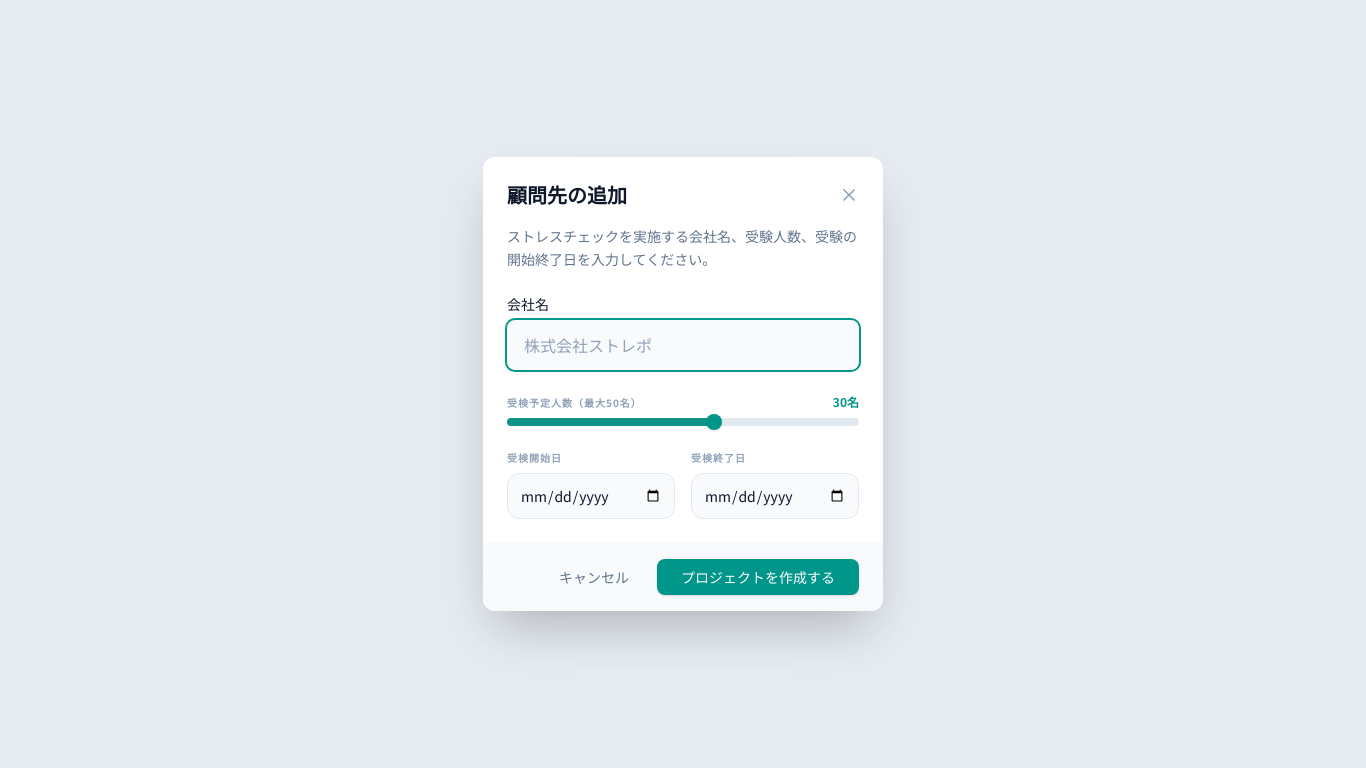
it: NewProjectModal - 日付バリデーション › 日付エラー状態で日付を変更するとエラーがクリアされる
The width and height of the screenshot is (1366, 768).
Type "テスト株式会社" into the field labelled "会社名" at (683, 345), box [507,320,859,370]
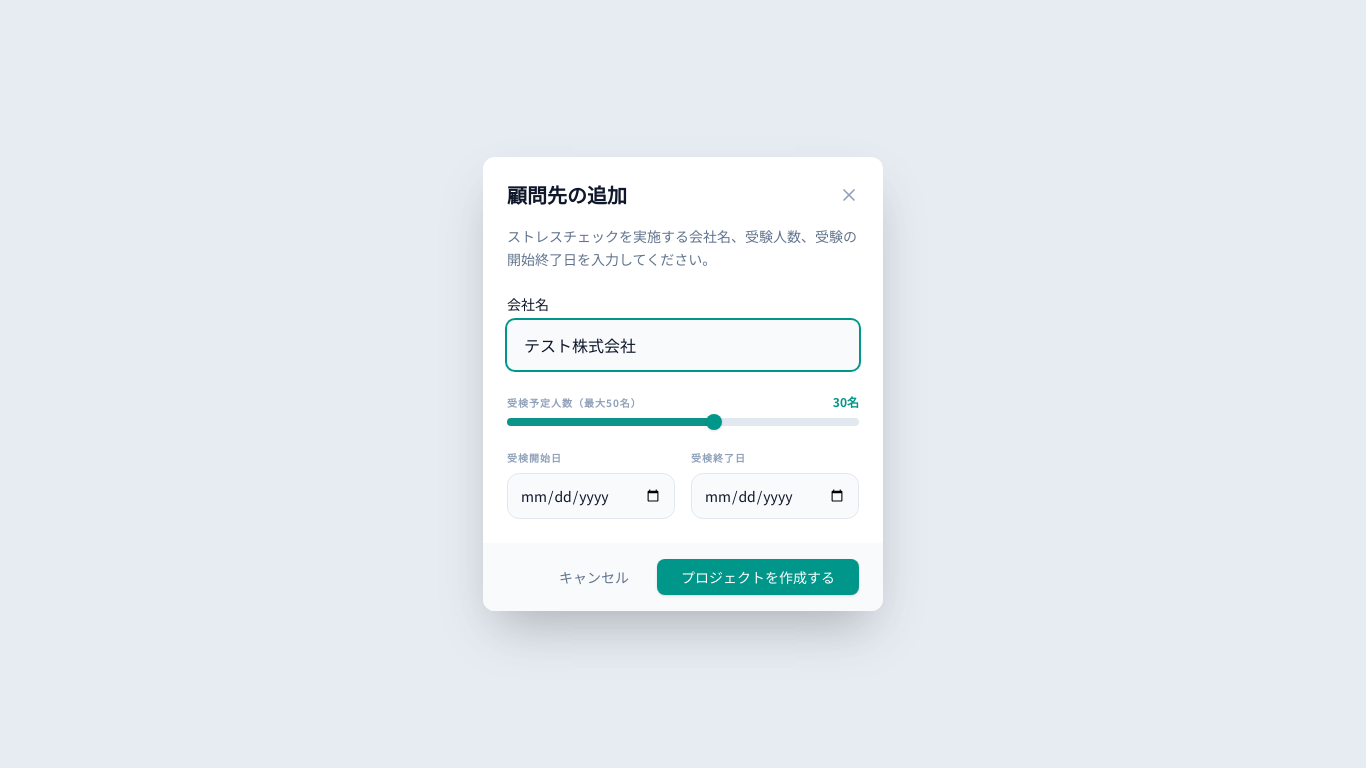
Type "2026-05-31" into the date field labelled "受検開始日" at (591, 496), box [507,473,675,519]
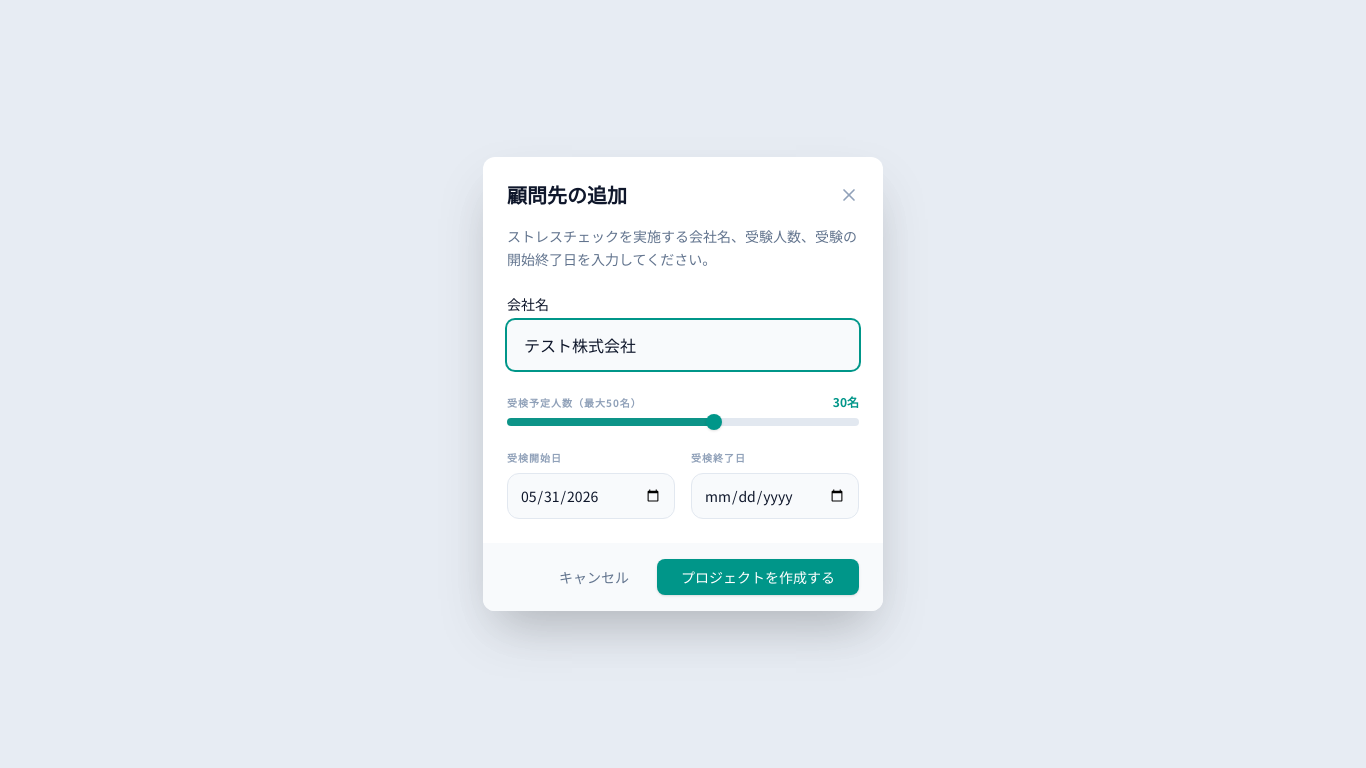
Type "2026-05-01" into the date field labelled "受検終了日" at (775, 496), box [691,473,859,519]
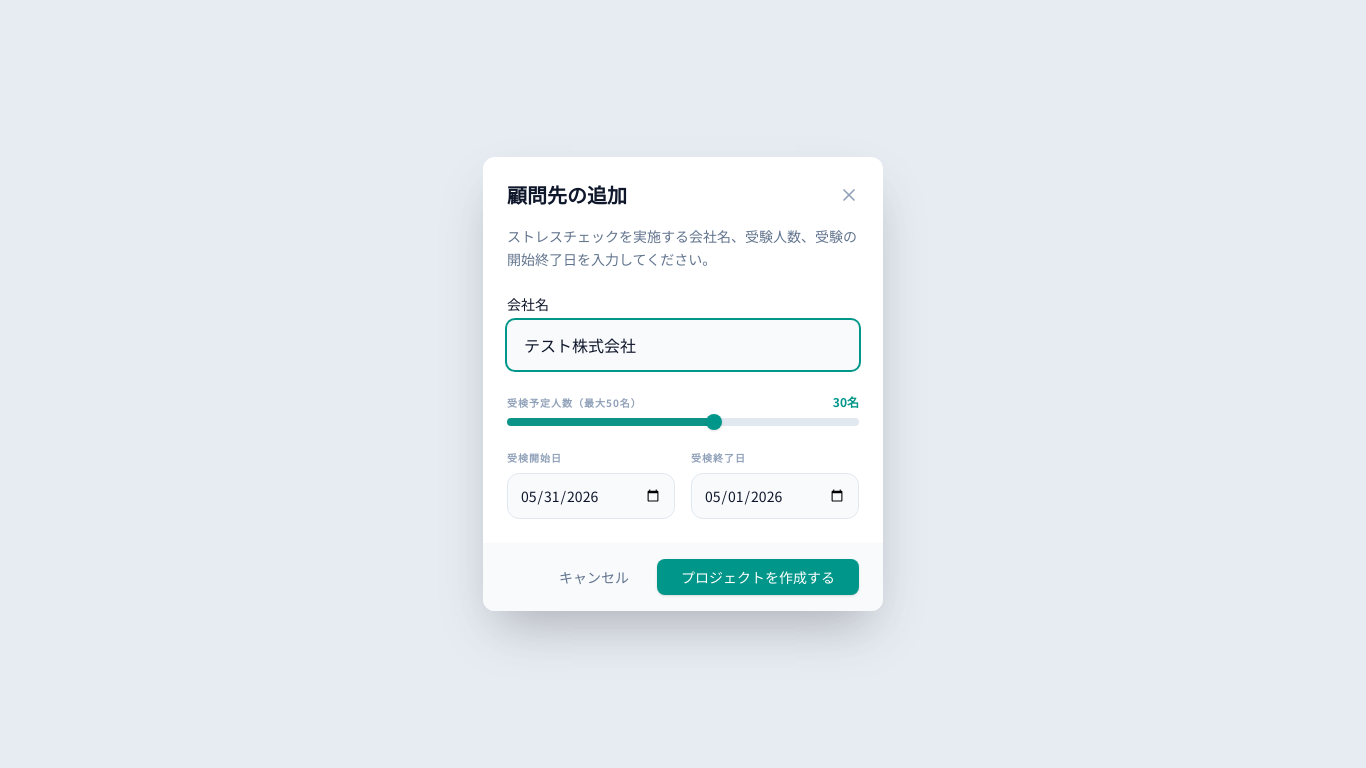
Click the button "プロジェクトを作成する" at (758, 577), box [657,559,859,595]
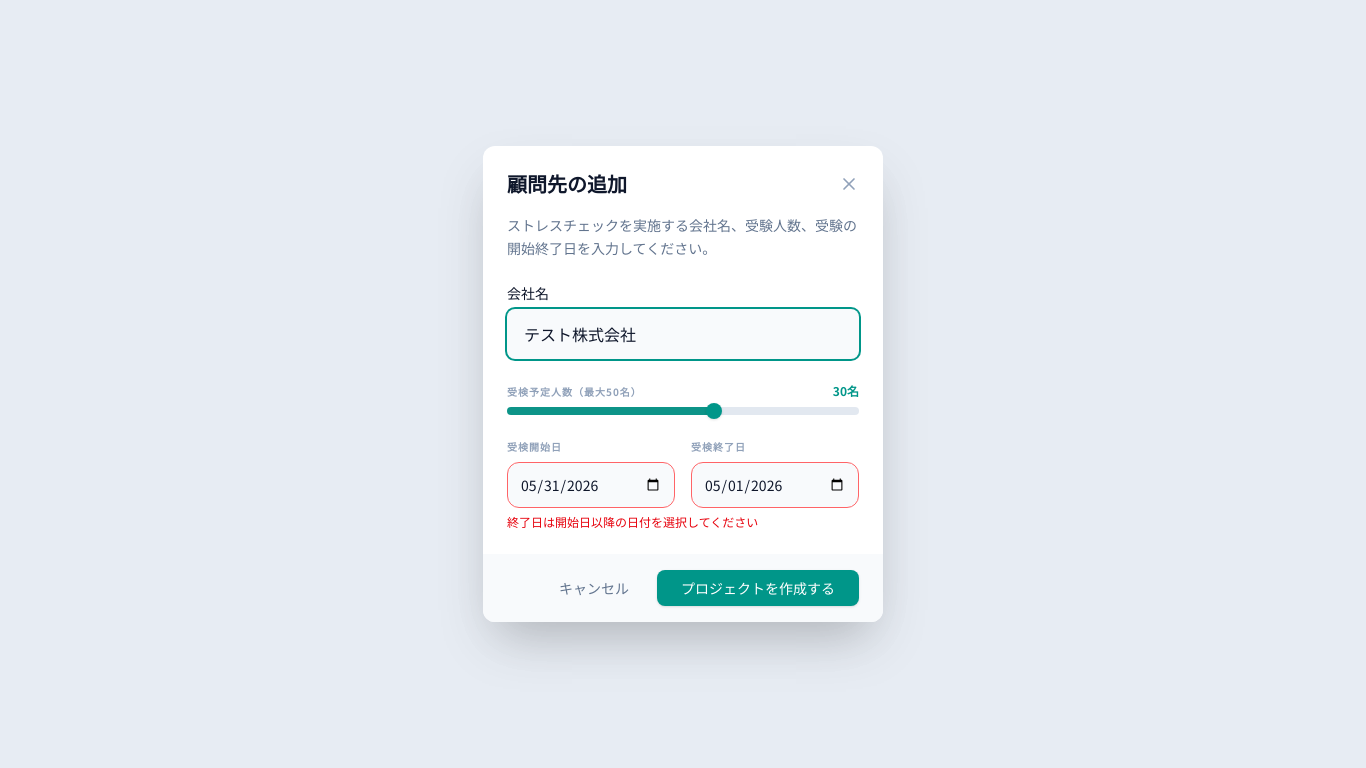
// エラー表示後に日付を修正するとエラーがクリアされる
Type "2026-06-30" into the date field labelled "受検終了日" at (775, 485), box [691,462,859,508]
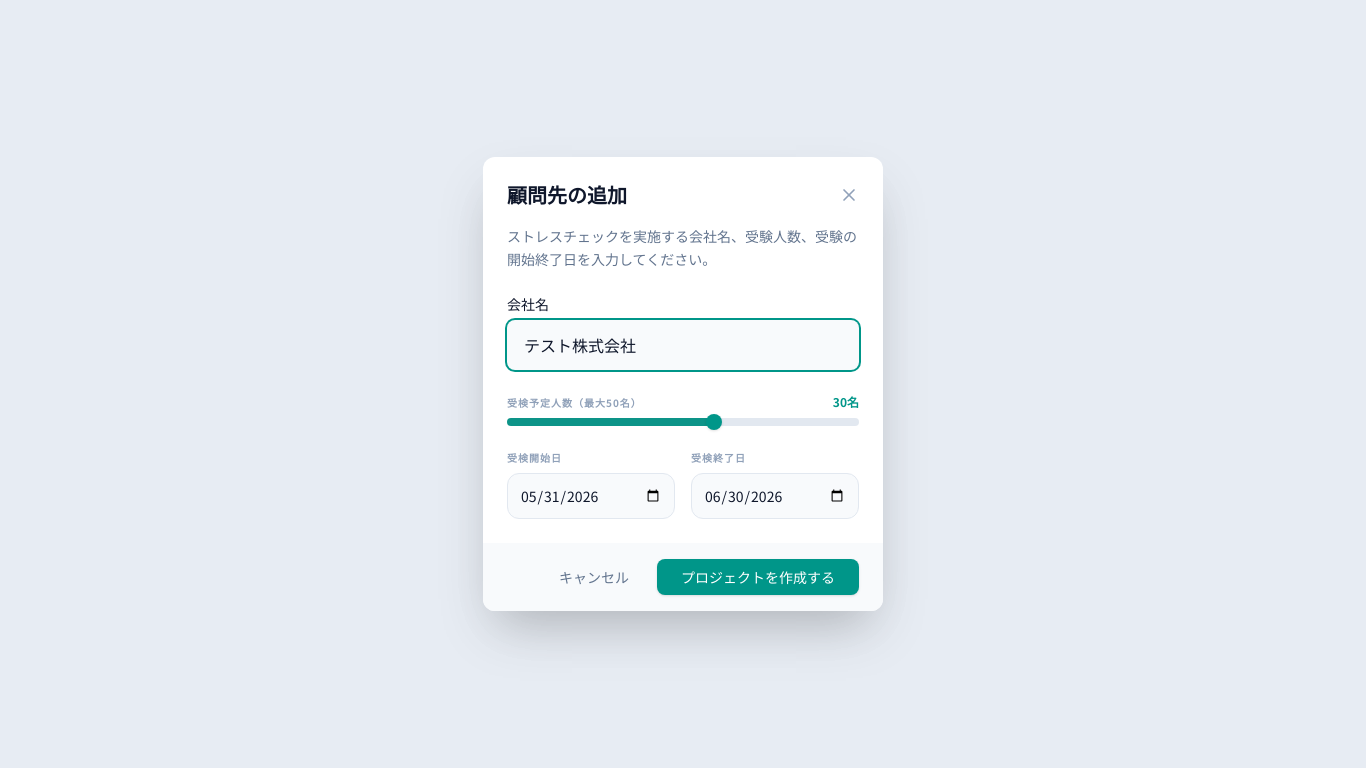
expect the message "終了日は開始日以降の日付を選択してください" is gone: met
